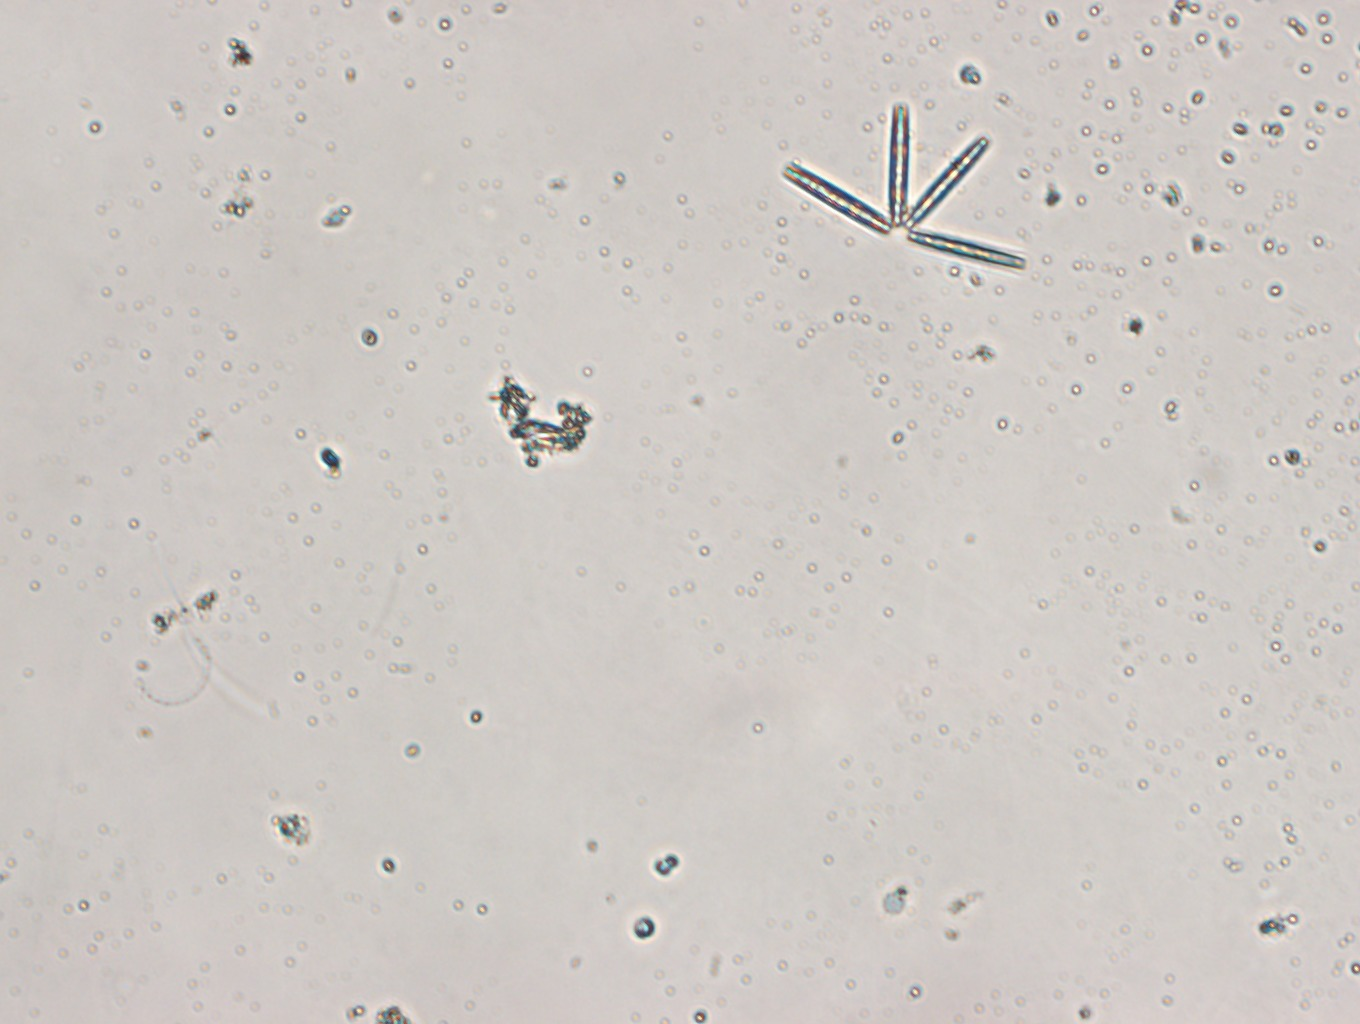thalassionema nitzschioides: (779, 101, 1026, 268)
